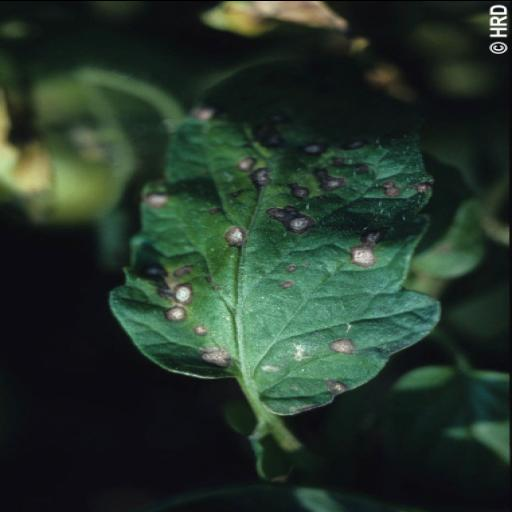Septoria: (111, 56, 449, 416)
